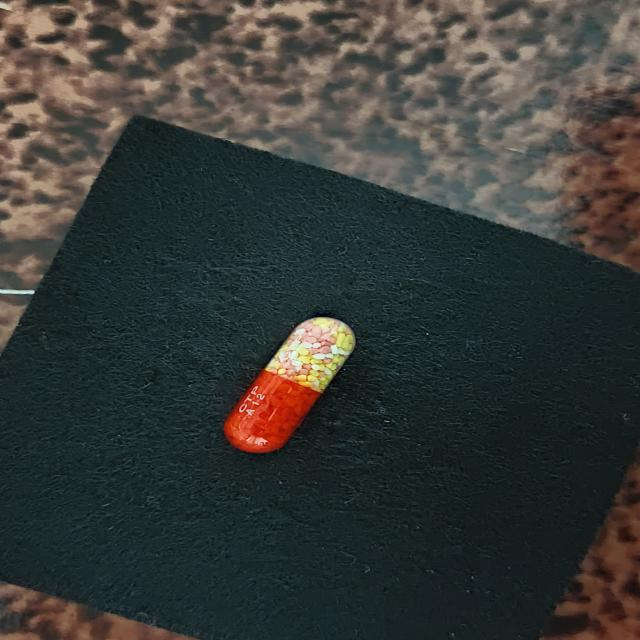Intact Capsule: (224, 317, 356, 453)
